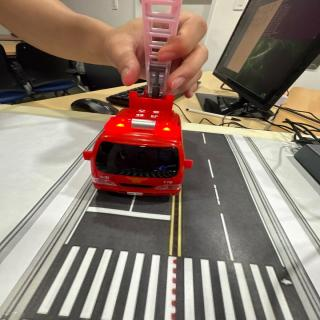Fire_truck: (83, 91, 193, 195)
